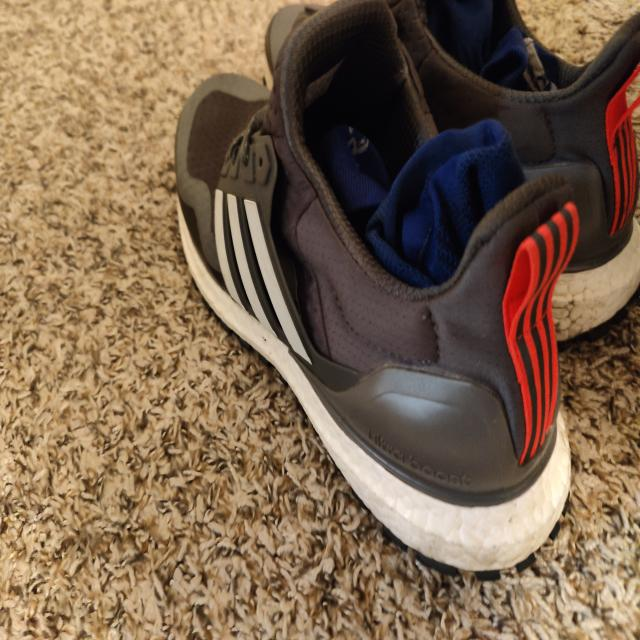black shoes: (178, 17, 638, 557)
